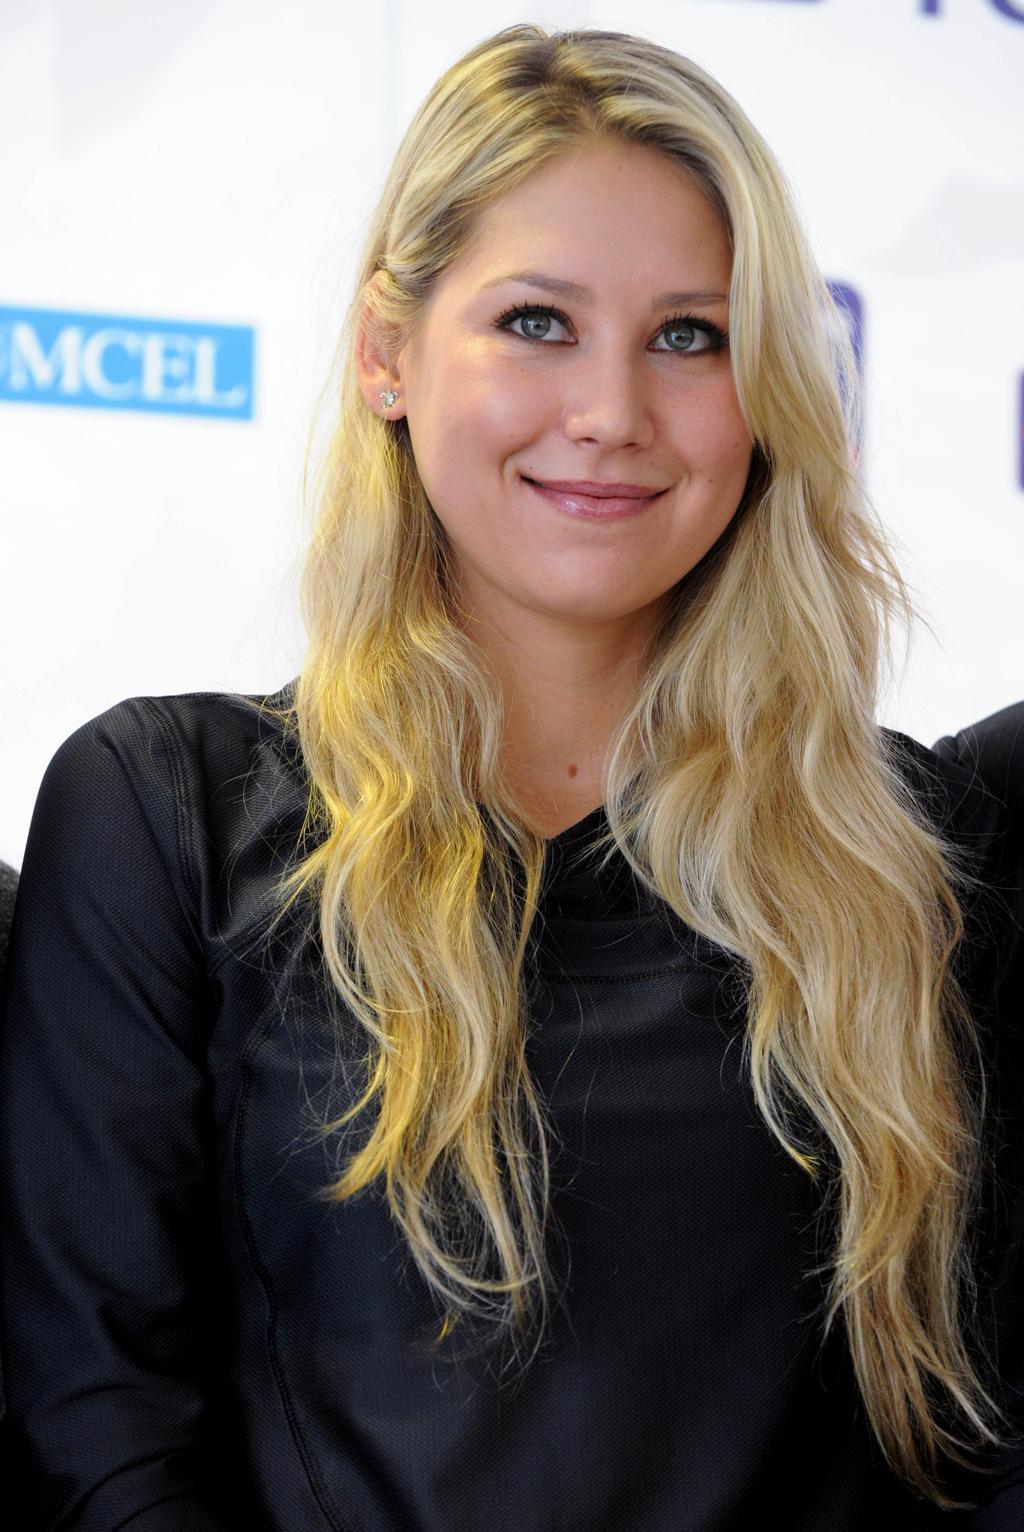face: (410, 156, 754, 614)
